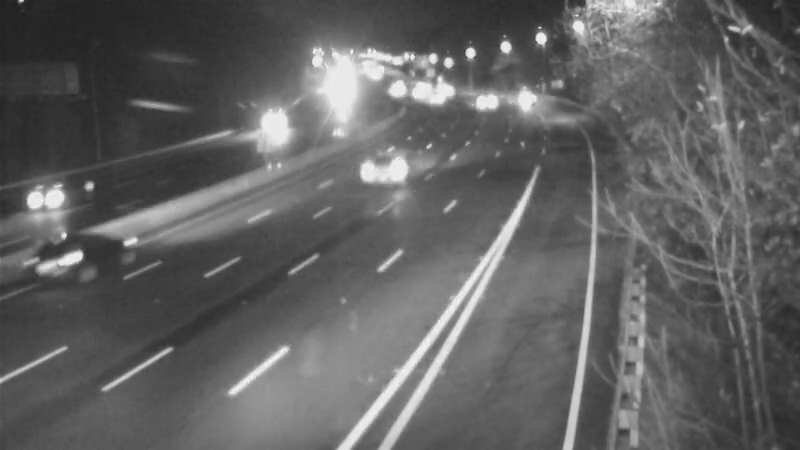vehicle: (342, 135, 422, 215), (15, 223, 95, 303), (7, 162, 87, 242), (497, 72, 547, 122), (404, 72, 454, 122), (459, 75, 509, 125), (248, 106, 298, 156)
